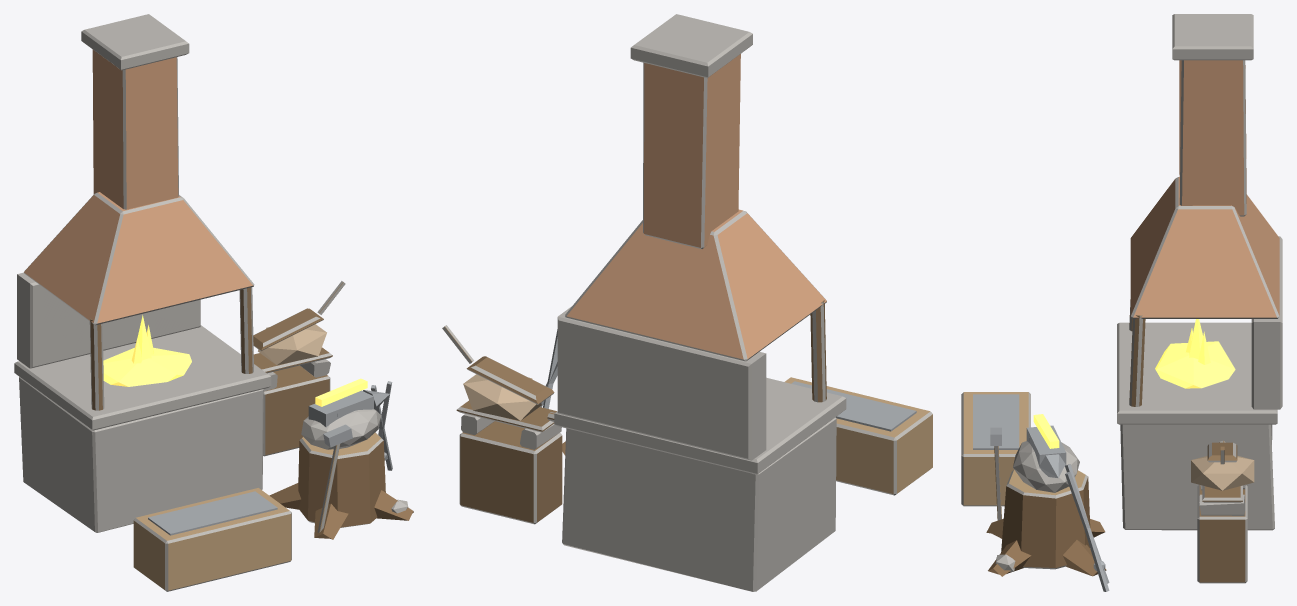
Rendered from w3d_forge_working.glb.
3 views of the same model, side by side, from view 1: azimuth 30°, elevation 25°; view 2: azimuth 150°, elevation 25°; view 3: azimuth 270°, elevation 25° (orthographic). The views are drawn at different scales.
Visible parts, largest first — view 1: w3d_forge_working; view 2: w3d_forge_working; view 3: w3d_forge_working.
Part boxes in pixels (<box>): w3d_forge_working: <box>14,14,413,591</box>; w3d_forge_working: <box>442,14,932,591</box>; w3d_forge_working: <box>961,14,1282,591</box>.
Bounding box in the file's own units: 1.88 × 2.62 × 1.66.
